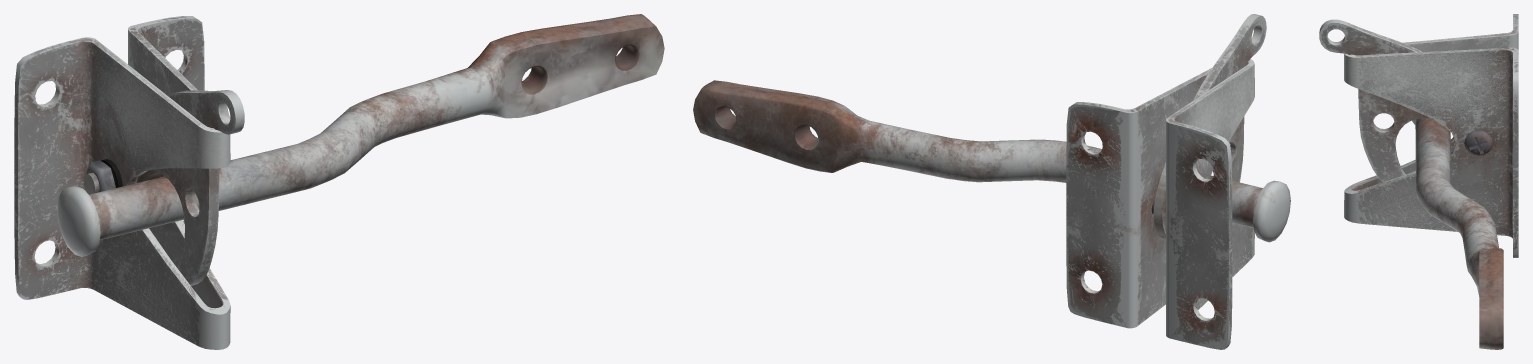
The model's file is gate_latch_01.glb.
3 views of the same model, side by side, from view 1: azimuth 30°, elevation 25°; view 2: azimuth 150°, elevation 25°; view 3: azimuth 270°, elevation 25° (orthographic). The views are drawn at different scales.
Visible parts, largest first — view 1: gate_latch_01_frame; view 2: gate_latch_01_frame; view 3: gate_latch_01_frame.
Part boxes in pixels (x1,y1,x2,y2): gate_latch_01_frame: [14, 14, 664, 349]; gate_latch_01_frame: [693, 14, 1290, 349]; gate_latch_01_frame: [1319, 14, 1518, 349].
Bounding box in the file's own units: 0.2051 × 0.0854 × 0.0747.
Materials: 1 (1 with a texture image).
